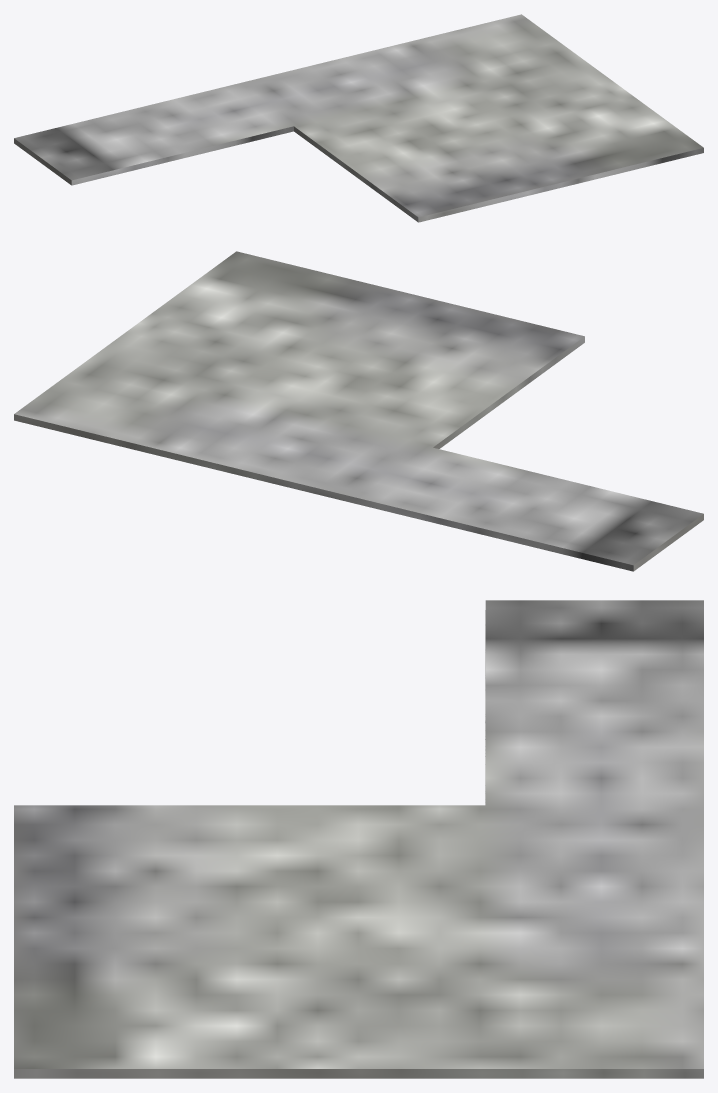
The model's file is PisoCasa.fbx.
3 renders of one model, top to bottom at view 1: azimuth 30°, elevation 25°; view 2: azimuth 150°, elevation 25°; view 3: azimuth 270°, elevation 25°, orthographic. The views are drawn at different scales.
Parts seen in each view (by area): view 1: Piso; view 2: Piso; view 3: Piso.
Boxes of the visible parts, x1,y1,x2,y2 form: Piso: (14, 14, 703, 222); Piso: (14, 251, 703, 571); Piso: (14, 600, 703, 1078).
Size of the model in its own units: 982 by 9.61 by 611.
